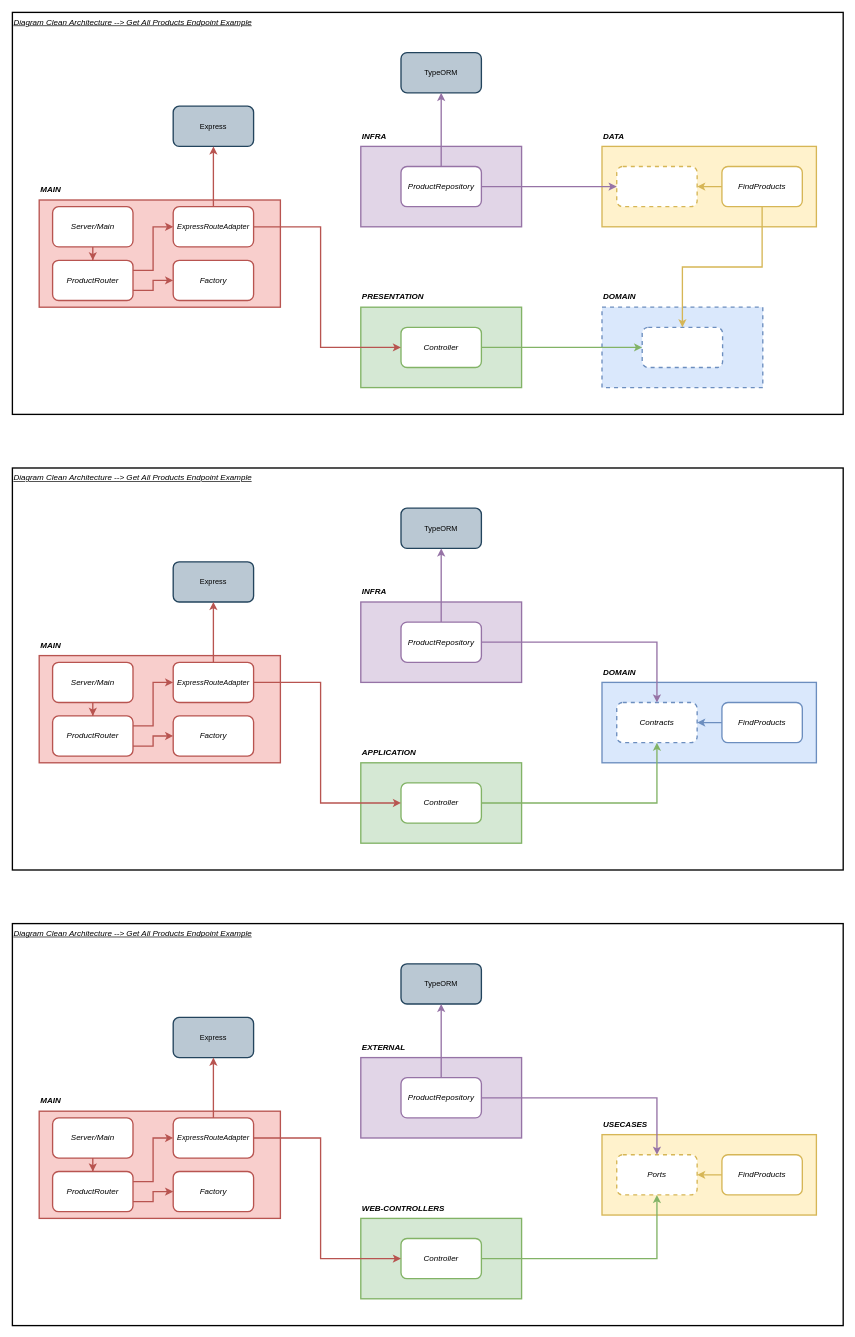
Image size: 855x1337. Some labels were removed from this diagram. The box of each missing label's shape, as (x1, y1, x2, y2) in pixels:
IDbFindProducts: (616, 165, 697, 207)
IFindProducts: (641, 326, 723, 368)
